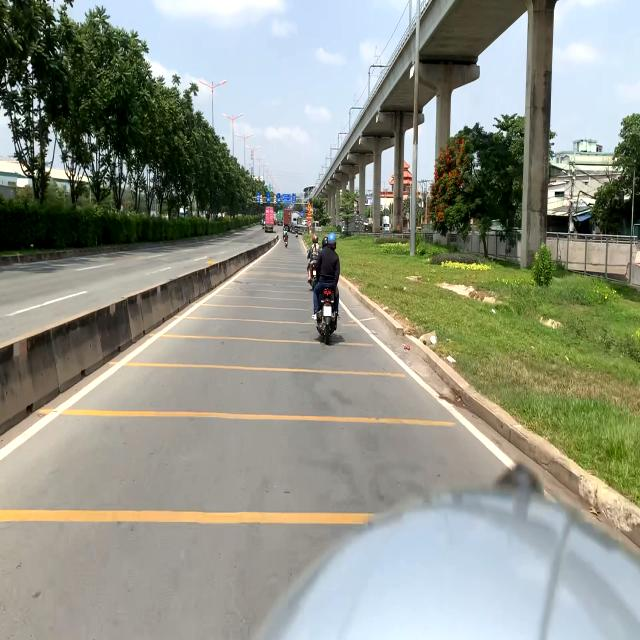P.123b: (307, 219, 312, 228)
